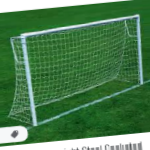goals: (7, 14, 145, 126)
